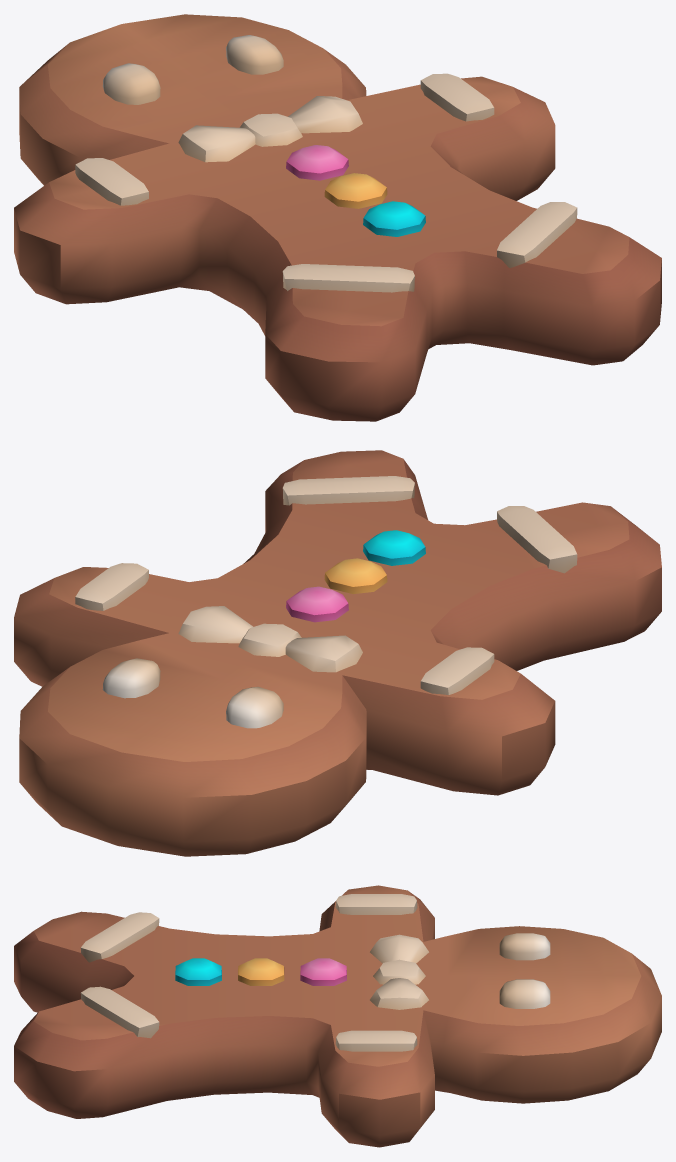
File: gingerbread_man.glb
3 renders of one model, top to bottom at view 1: azimuth 30°, elevation 25°; view 2: azimuth 150°, elevation 25°; view 3: azimuth 270°, elevation 25°, orthographic. The views are drawn at different scales.
Visible parts, largest first — view 1: gingerbread_man; view 2: gingerbread_man; view 3: gingerbread_man.
Part boxes in pixels (x1=…): gingerbread_man: x1=14, y1=14, x2=661, y2=421; gingerbread_man: x1=14, y1=450, x2=661, y2=856; gingerbread_man: x1=14, y1=885, x2=661, y2=1147.
Size of the model in its own units: 0.5577 by 0.113 by 0.7348.
1 material, 1 textured.
